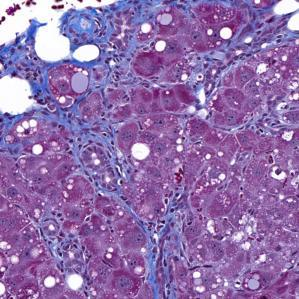fibrosis: (68, 10, 157, 42), (58, 106, 117, 149), (4, 41, 51, 84)
